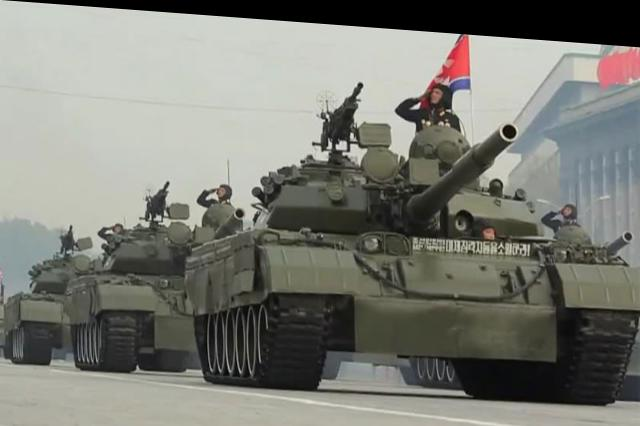other: (410, 63, 458, 143), (92, 209, 130, 252), (200, 174, 240, 214)
tank: (192, 140, 628, 407), (84, 193, 216, 371), (11, 205, 89, 376)
